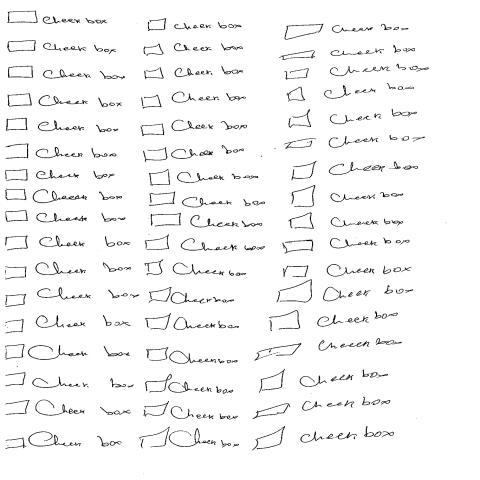Check Box: (4, 288, 140, 307), (290, 185, 406, 207), (289, 161, 419, 180), (282, 261, 414, 278), (6, 64, 126, 82), (147, 168, 260, 187), (145, 258, 249, 278), (289, 212, 404, 230), (281, 236, 410, 252), (283, 23, 410, 39), (147, 191, 264, 208), (4, 117, 120, 134), (144, 236, 267, 252), (149, 212, 264, 229), (139, 90, 245, 108), (4, 187, 123, 203), (6, 92, 123, 108), (4, 209, 128, 224), (4, 234, 132, 248), (139, 119, 250, 135), (6, 39, 116, 55), (145, 347, 239, 365), (148, 287, 237, 306), (143, 314, 240, 331), (143, 145, 246, 161), (6, 10, 107, 25), (4, 168, 117, 181), (146, 16, 243, 31), (141, 42, 246, 55), (142, 66, 245, 78)
